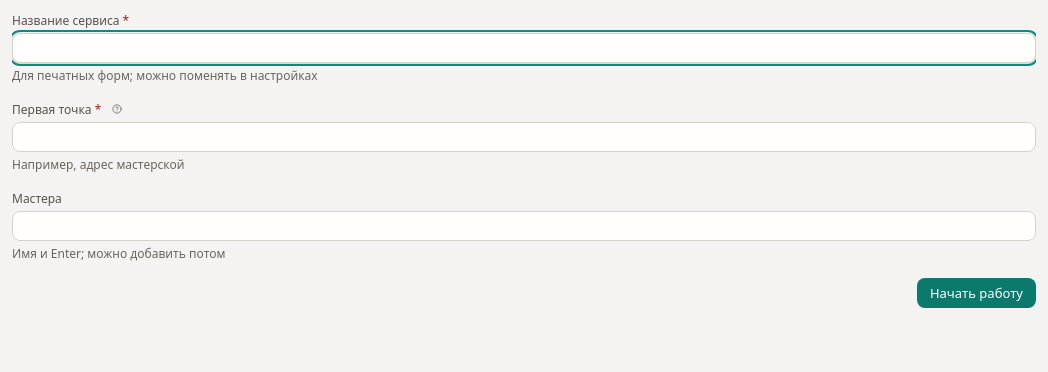
SetupForm («Начать с пустой базы») › the name and the point are required: nothing is sent without them
This screenshot has width=1048, height=372.
Click the button "Начать работу" at (976, 293), box [917, 278, 1036, 308]
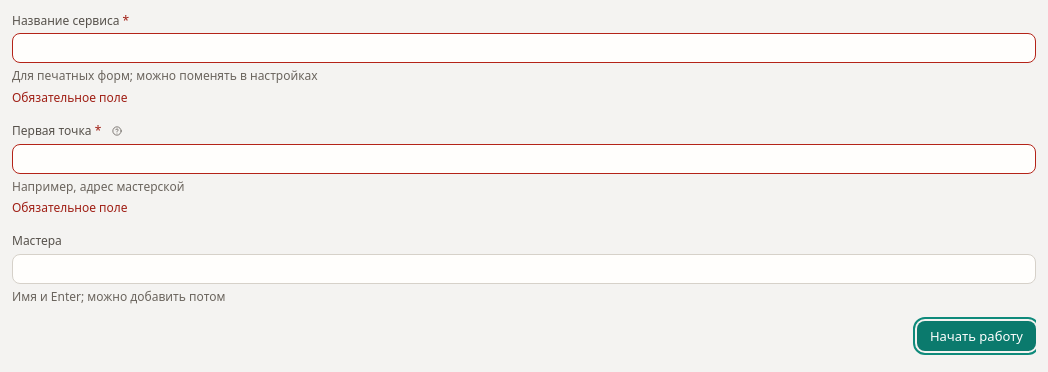
Now the text "Обязательное поле" is shown 2 times, box [12, 89, 128, 106]; [12, 199, 128, 216]
